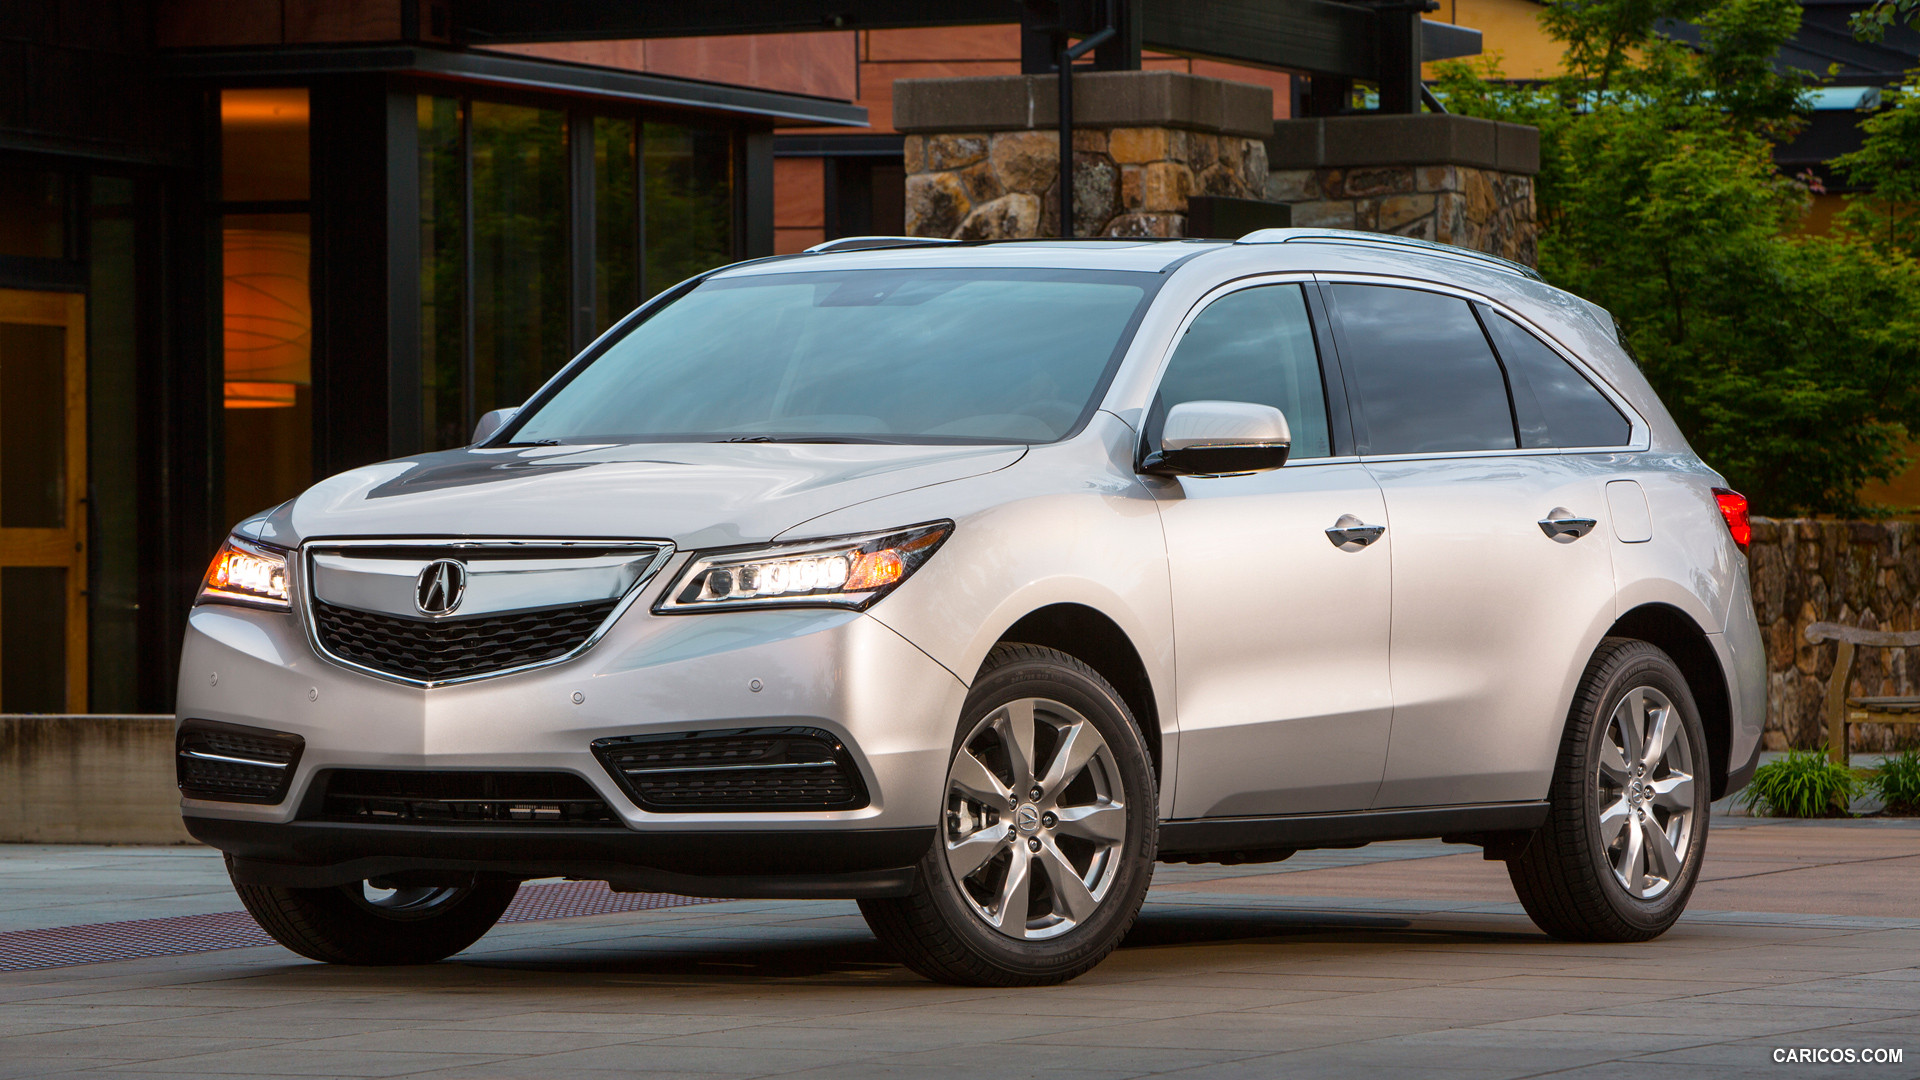Fog Lamp & Scope: (618, 736, 876, 808)
Front: (173, 448, 1063, 851)
Front Bumper: (174, 698, 953, 843)
Grill: (316, 546, 663, 679)
Headlight: (661, 514, 953, 624)
